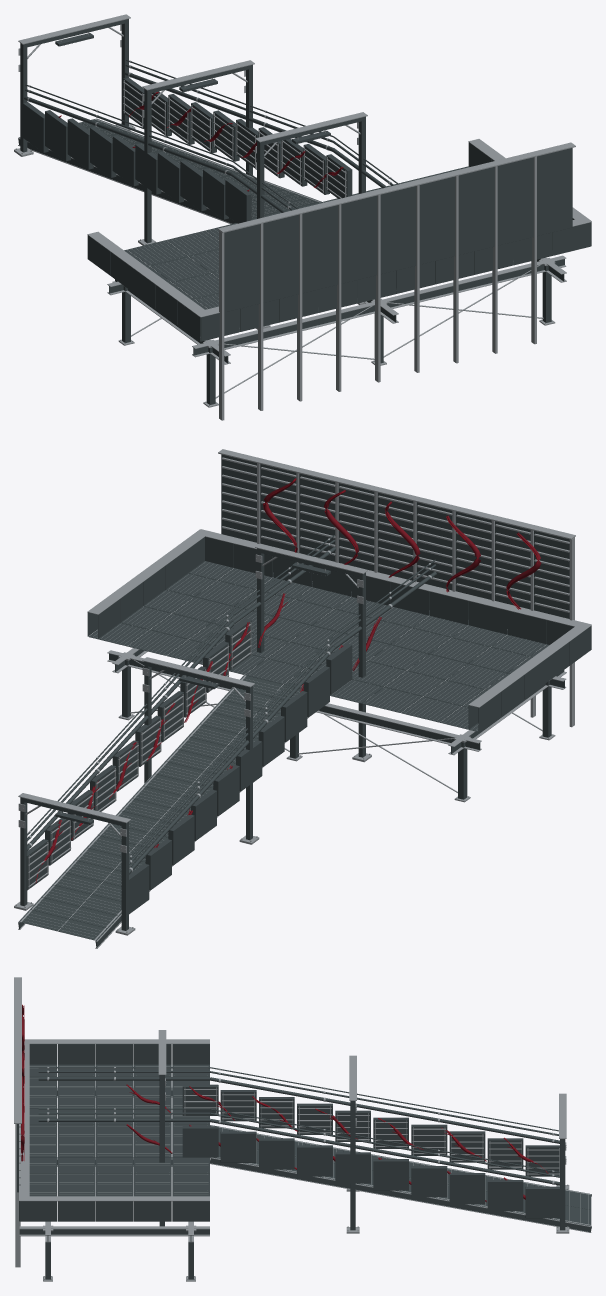
File: SM_TerraceRoute.fbx
3 renders of one model, top to bottom at view 1: azimuth 30°, elevation 25°; view 2: azimuth 150°, elevation 25°; view 3: azimuth 270°, elevation 25°, orthographic. The views are drawn at different scales.
Parts seen in each view (by area): view 1: SM_TerraceRoute; view 2: SM_TerraceRoute; view 3: SM_TerraceRoute.
Boxes of the visible parts, bbox=[...] form: SM_TerraceRoute: bbox=[14, 14, 591, 420]; SM_TerraceRoute: bbox=[14, 449, 591, 948]; SM_TerraceRoute: bbox=[14, 977, 591, 1281].
Bounding box in the file's own units: 3032 × 2006 × 964.
